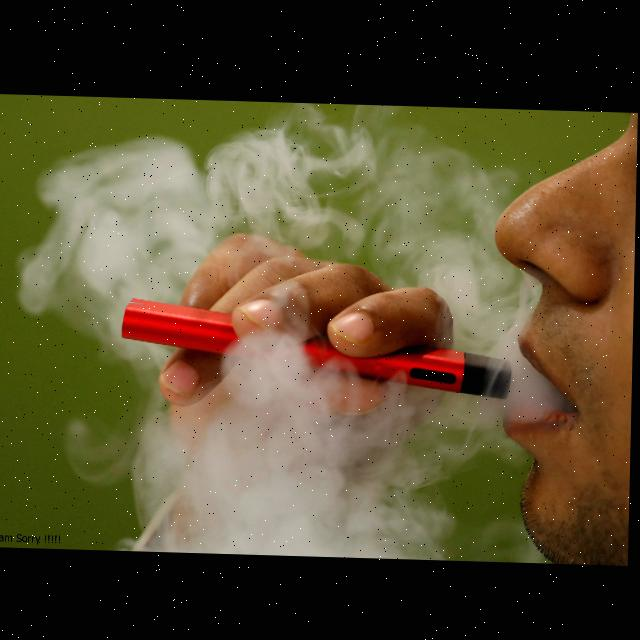vape: (121, 295, 515, 396)
